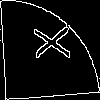X: (25, 24, 70, 61)
